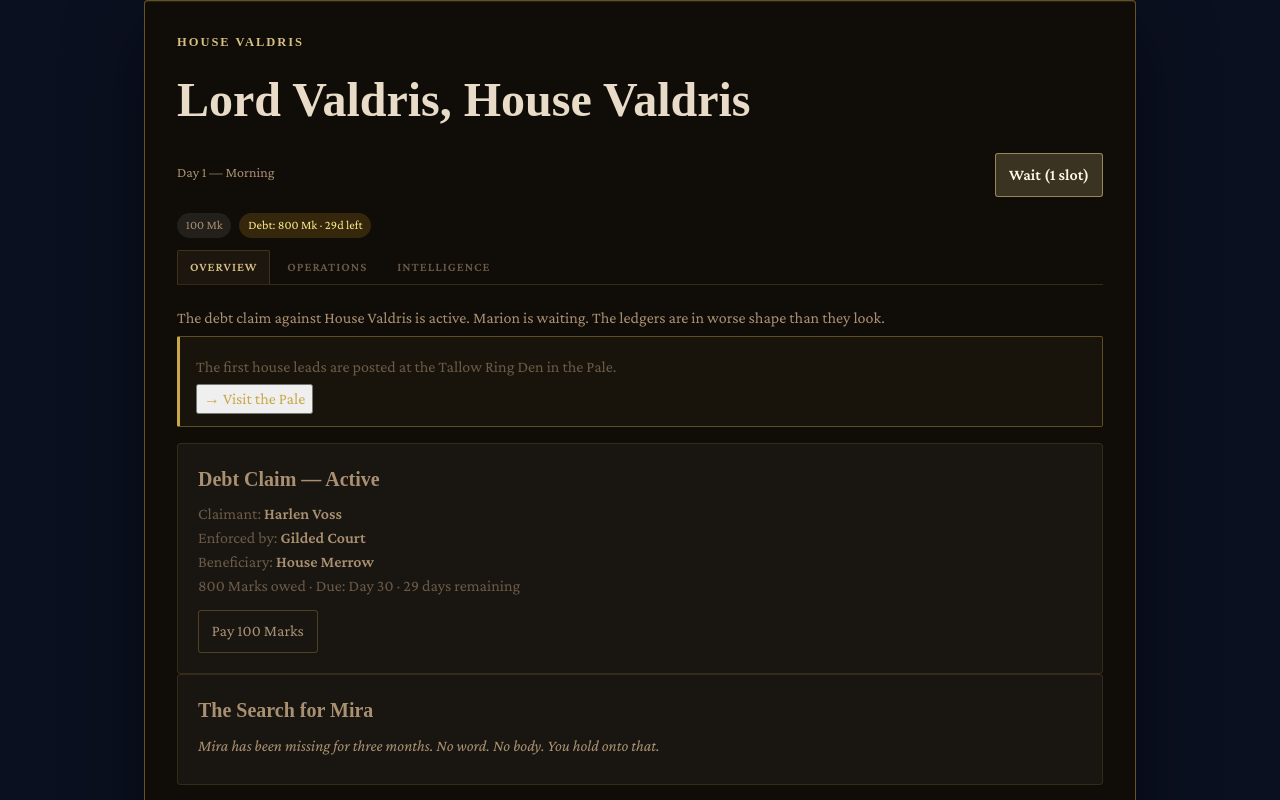
DashboardScreen › keeps load disabled until a snapshot exists
Click the tab "Operations".
click(327, 267)  # box 274,250 -> 380,284
(page scrolled)
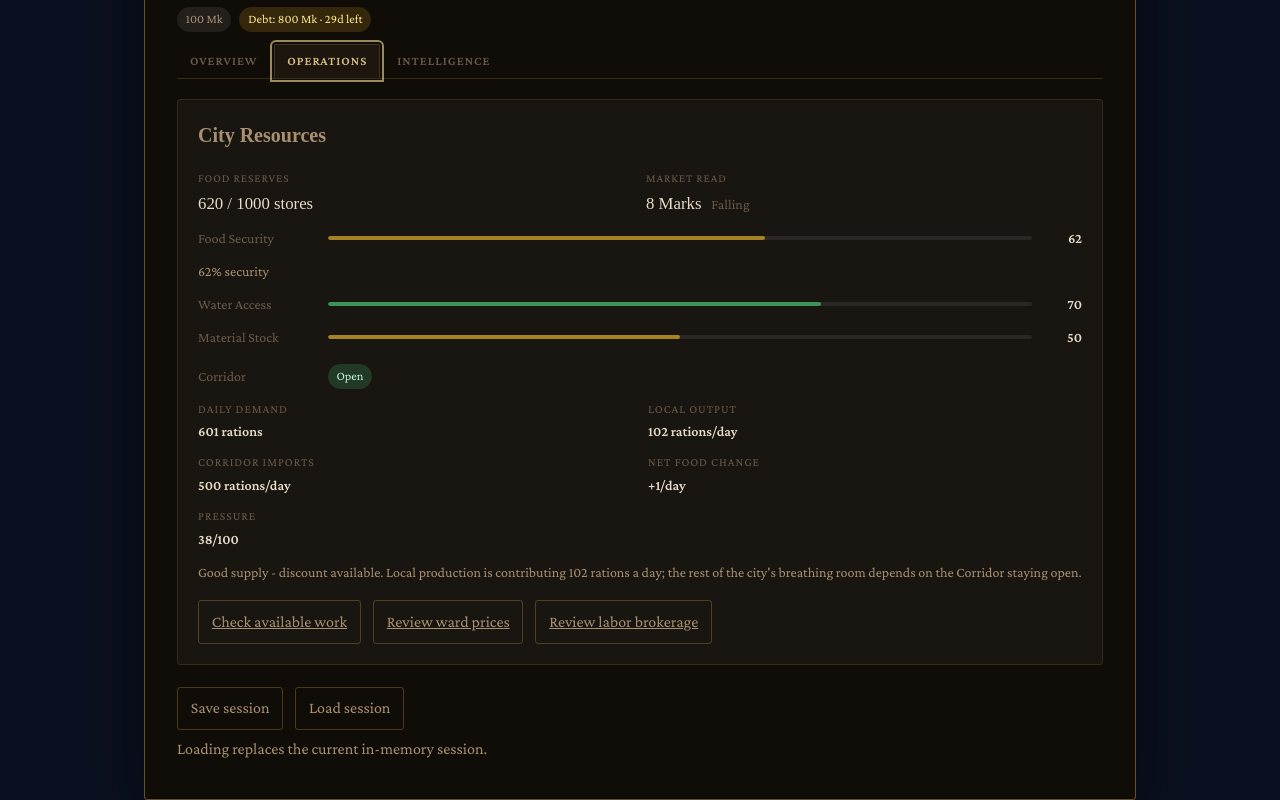
Expected: the button "Load session" is disabled, 295,686 -> 404,730
Expected: the text "Loading replaces the current in-memory session." is shown, 177,740 -> 487,757
